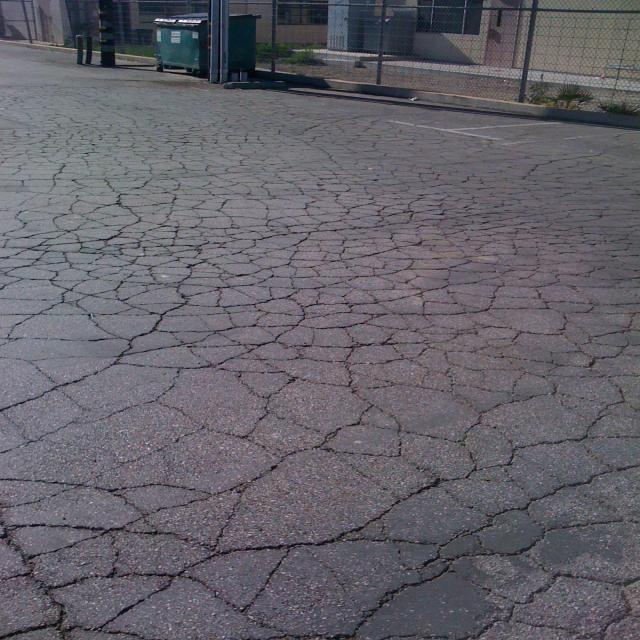Drain Hole: (41, 81, 640, 640)
